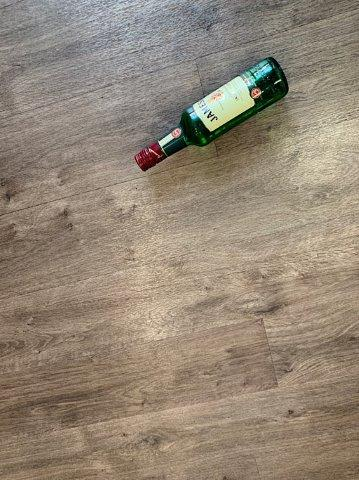botolkaca: (136, 58, 289, 172)
